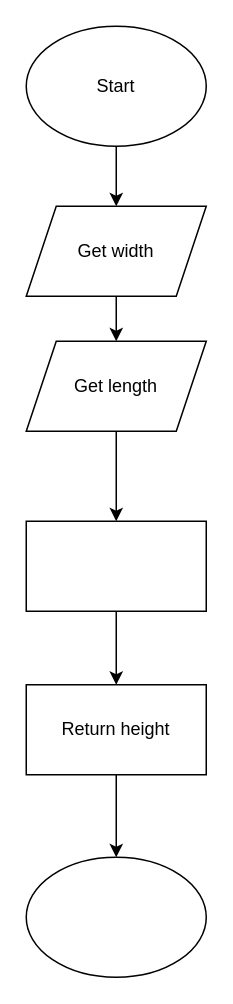
Some shapes in this 233 by 1004 pixel diagram are drawn without their labels. Each missing label, with the centre of its shape:
"length x width / 144" goes at point (115, 565).
"Stop" goes at point (115, 916).
